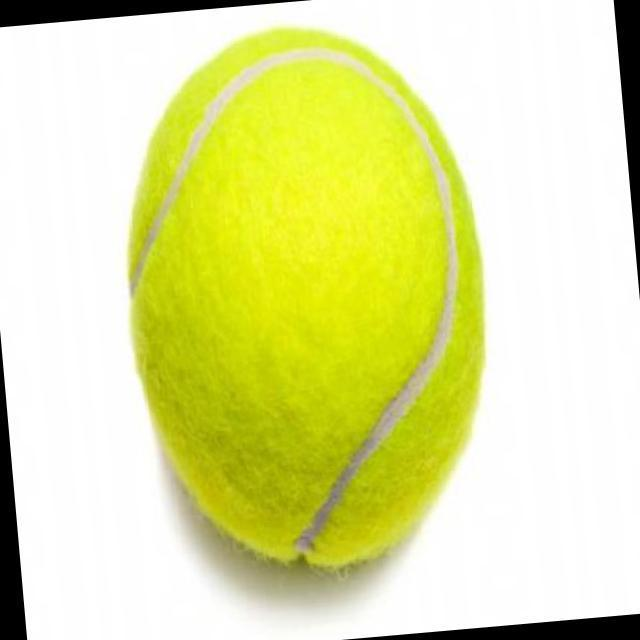-: (84, 9, 526, 609)
